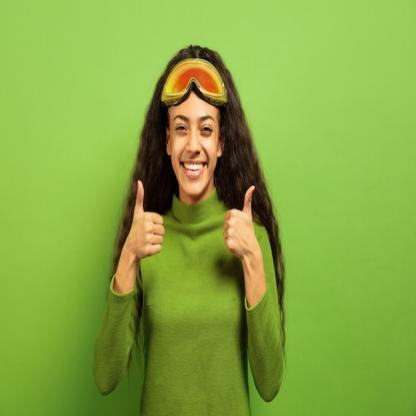thumb_up: (127, 176, 166, 260), (222, 181, 260, 258)
